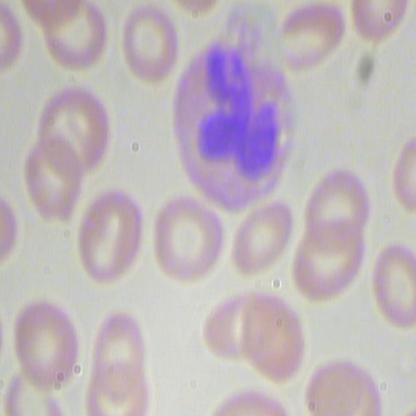RBC: (36, 82, 117, 184), (72, 185, 150, 288), (297, 162, 373, 260), (235, 286, 311, 384), (83, 308, 159, 406), (13, 289, 80, 393), (150, 197, 224, 290), (289, 219, 367, 305), (201, 283, 278, 361), (270, 1, 347, 78), (23, 130, 86, 222), (229, 198, 296, 281), (120, 1, 183, 88), (368, 237, 415, 335)
WBC: (168, 29, 304, 212)
